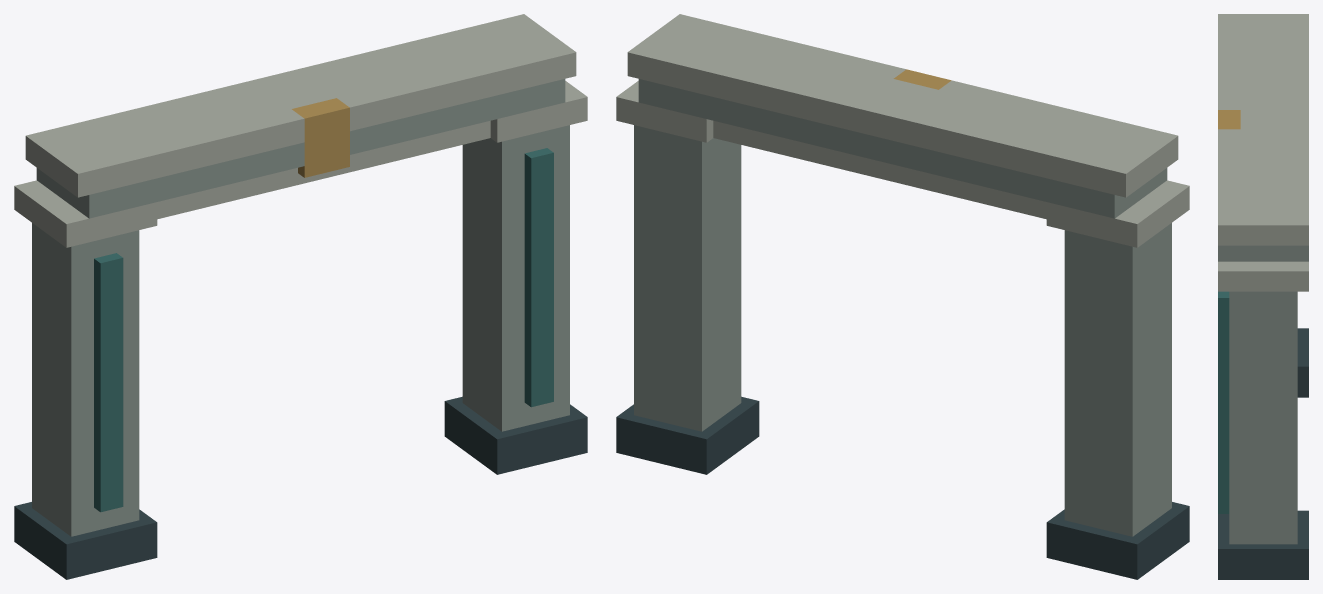
Rendered from AR_FRAME_01.glb.
The picture shows the model from 3 angles, left to right: view 1: azimuth 30°, elevation 25°; view 2: azimuth 150°, elevation 25°; view 3: azimuth 270°, elevation 25°; orthographic projection. The views are drawn at different scales.
Parts seen in each view (by area): view 1: AR_FRAME_01.body; view 2: AR_FRAME_01.body; view 3: AR_FRAME_01.body.
Boxes of the visible parts, x1,y1,x2,y2 form: AR_FRAME_01.body: [14, 14, 587, 579]; AR_FRAME_01.body: [616, 14, 1189, 579]; AR_FRAME_01.body: [1218, 14, 1308, 579].
Bounding box in the file's own units: 5.75 × 4.25 × 1.
